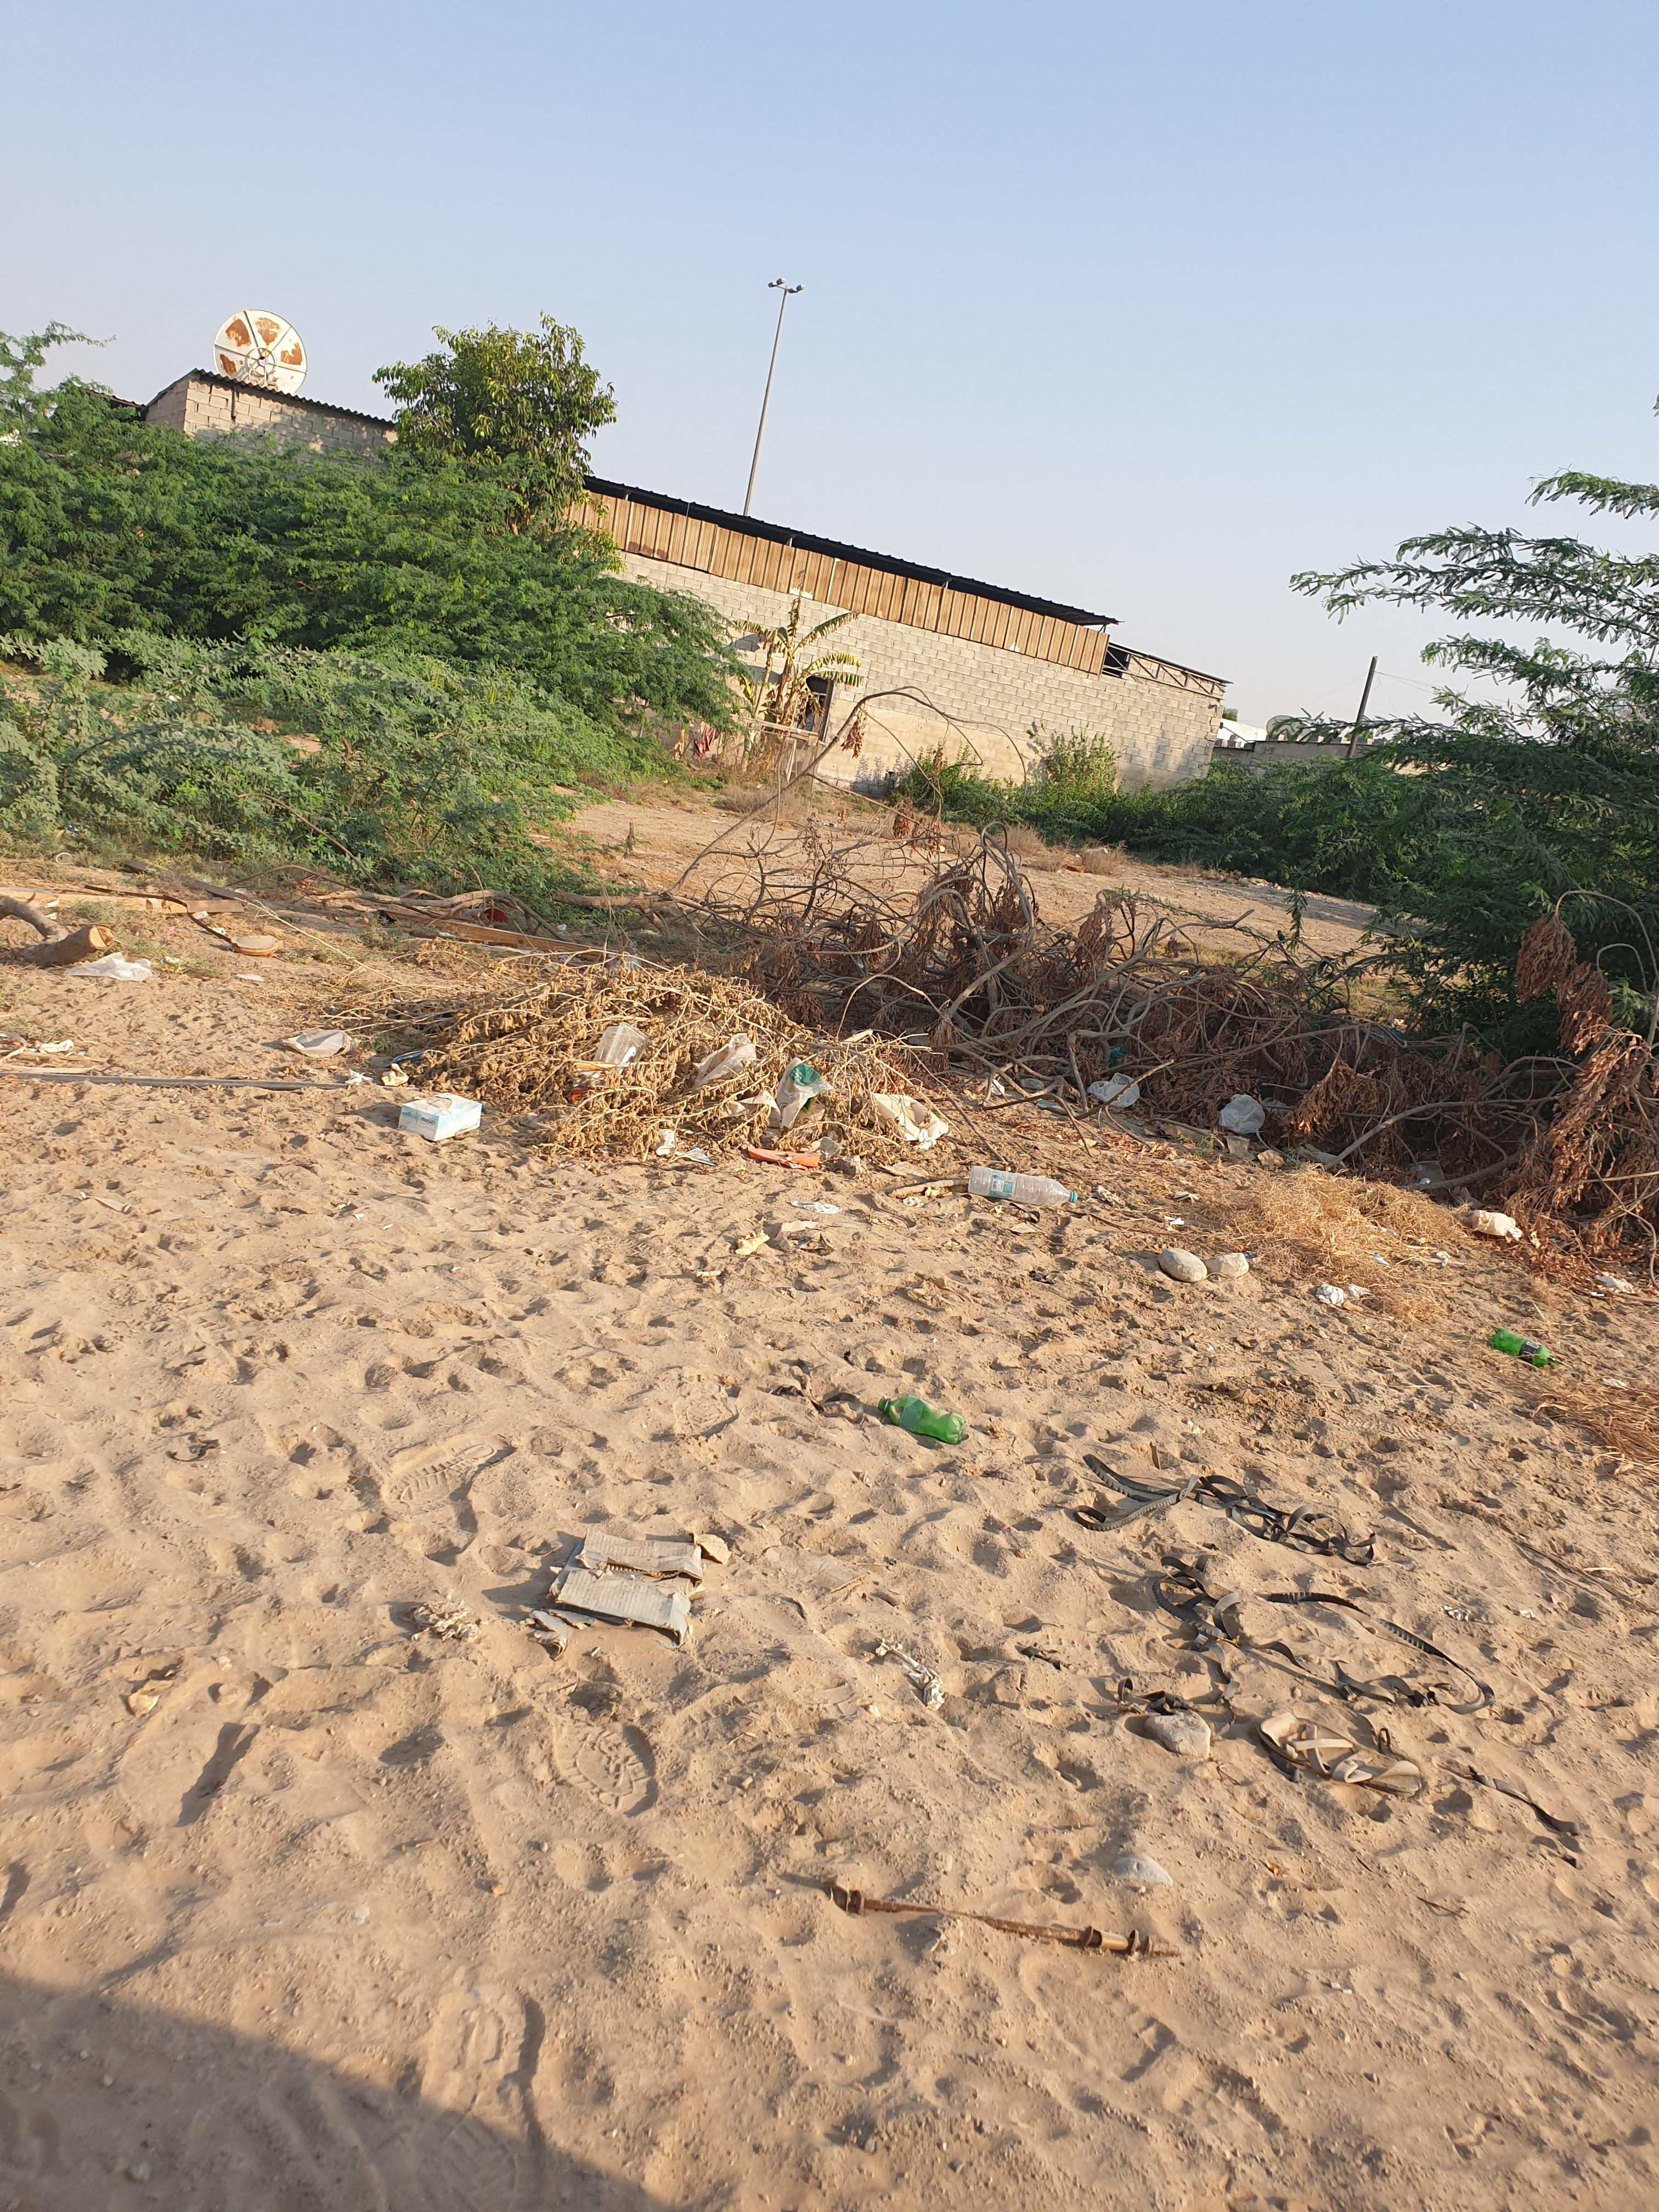fallen_trees: (716, 819, 1243, 1118), (1054, 883, 1467, 1221), (382, 935, 894, 1186), (1338, 998, 1659, 1273)
